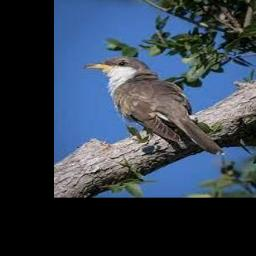Cuckoo: (85, 57, 226, 155)
